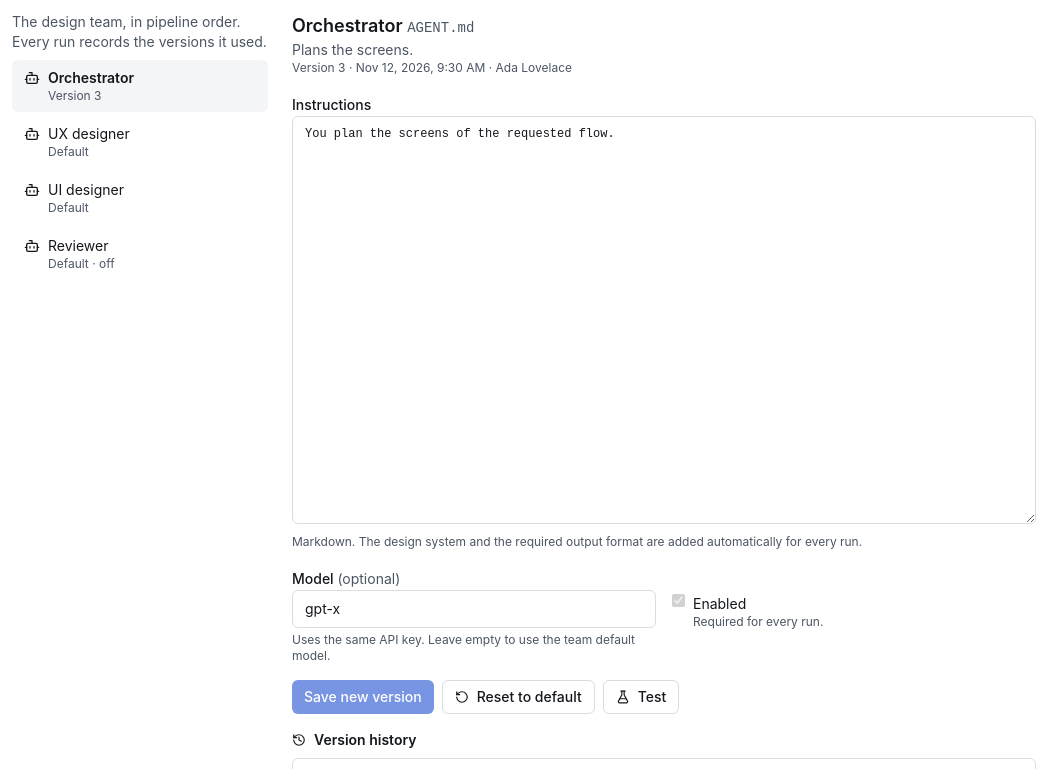
Test: AgentsPage › offers no reset for an agent still on the shipped default
The image size is (1048, 769).
Click the button "UX designer Default". click: click(140, 142)
box: top-left (12, 116), bottom-right (268, 168)
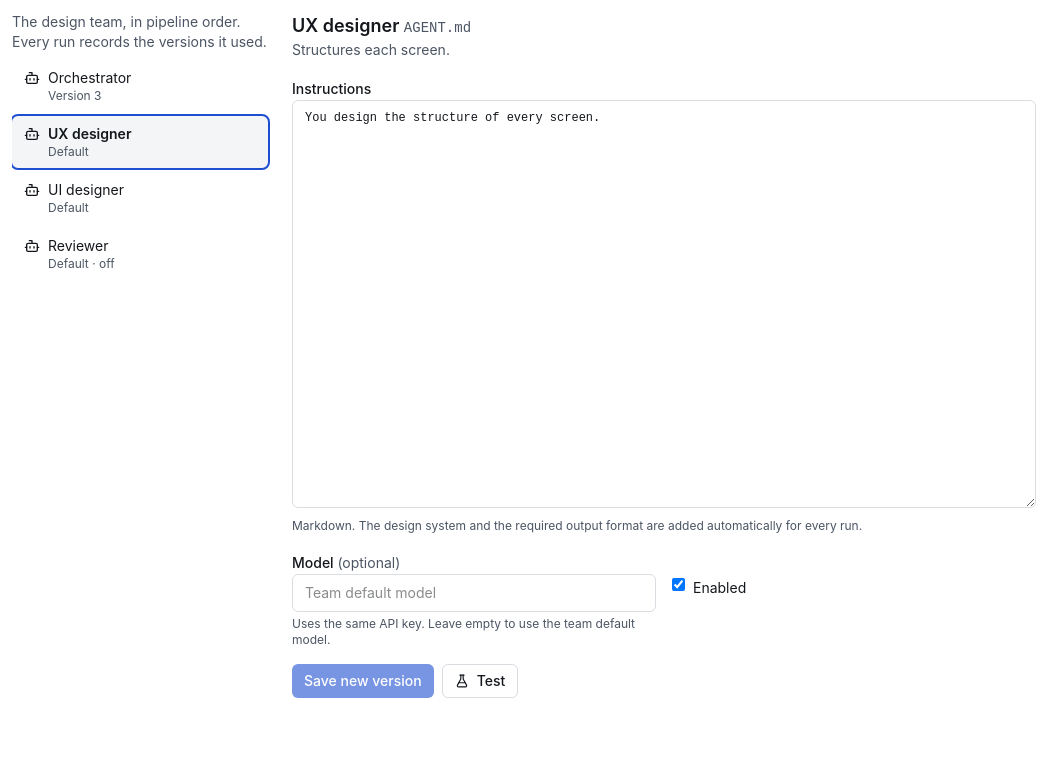
Now the button "Reset to default" is gone
